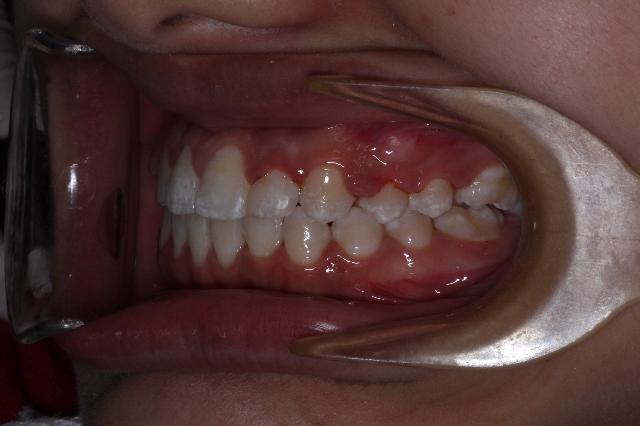canine class II 1/4: (281, 166, 385, 272)
molar class II 1/2: (432, 158, 524, 248)
